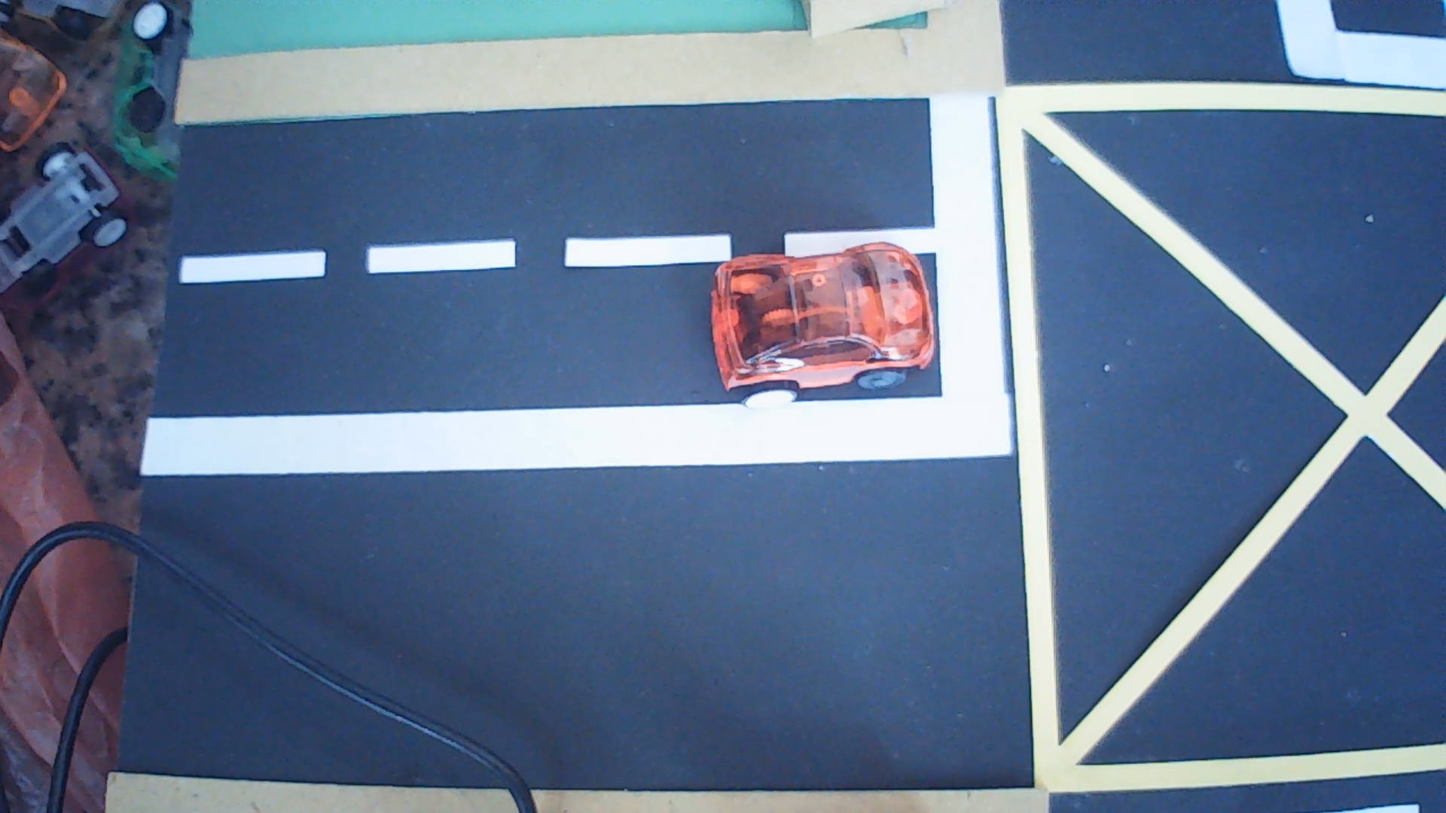Mobil merah: (711, 243, 936, 406)
